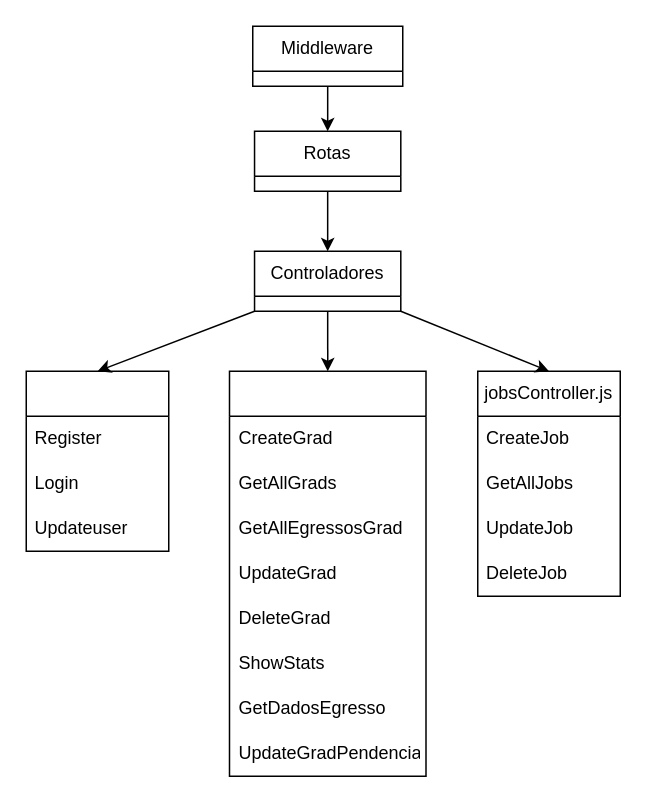
The diagram is 647 pixels wide and 803 high, and some of its shapes have lost their labels. Each missing label, with the box of its shape:
authController.js: (25, 370, 169, 551)
gradsController.js: (228, 370, 426, 776)
